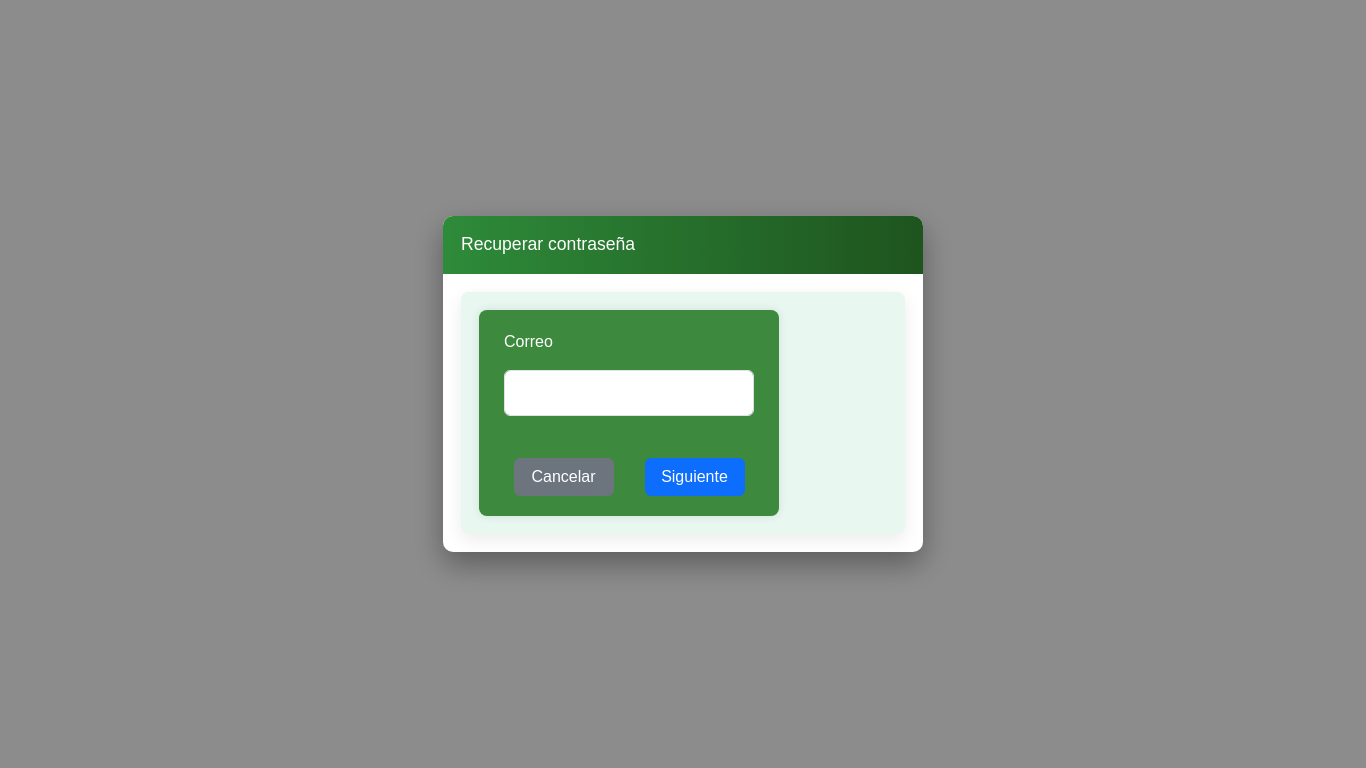
it: RecoverPasswordModal › envía las respuestas y reinicia el formulario tras un restablecimiento exitoso
The width and height of the screenshot is (1366, 768).
In the field labelled "Correo": (629, 393) [504,370,754,416], type "user@condor.cl"
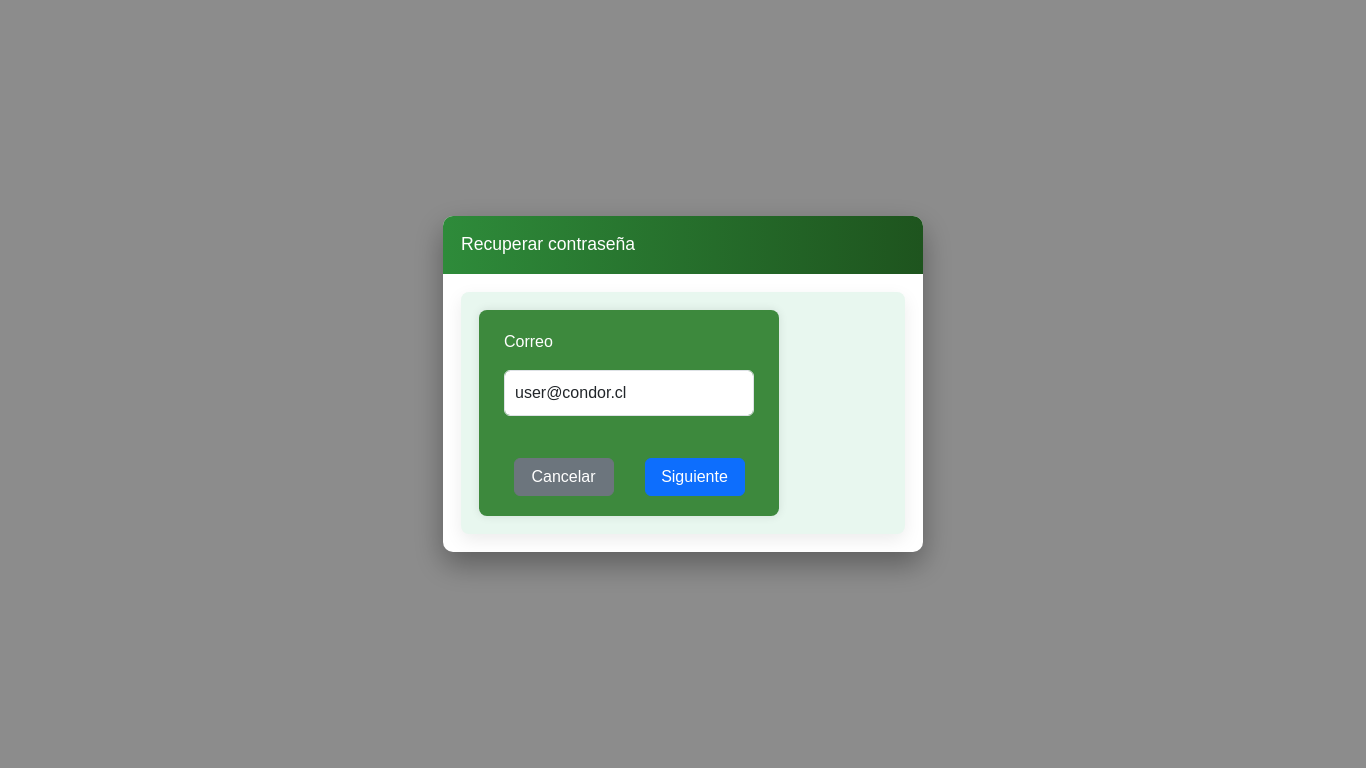
Click the button "Siguiente": (694, 477) [644,458,744,496]
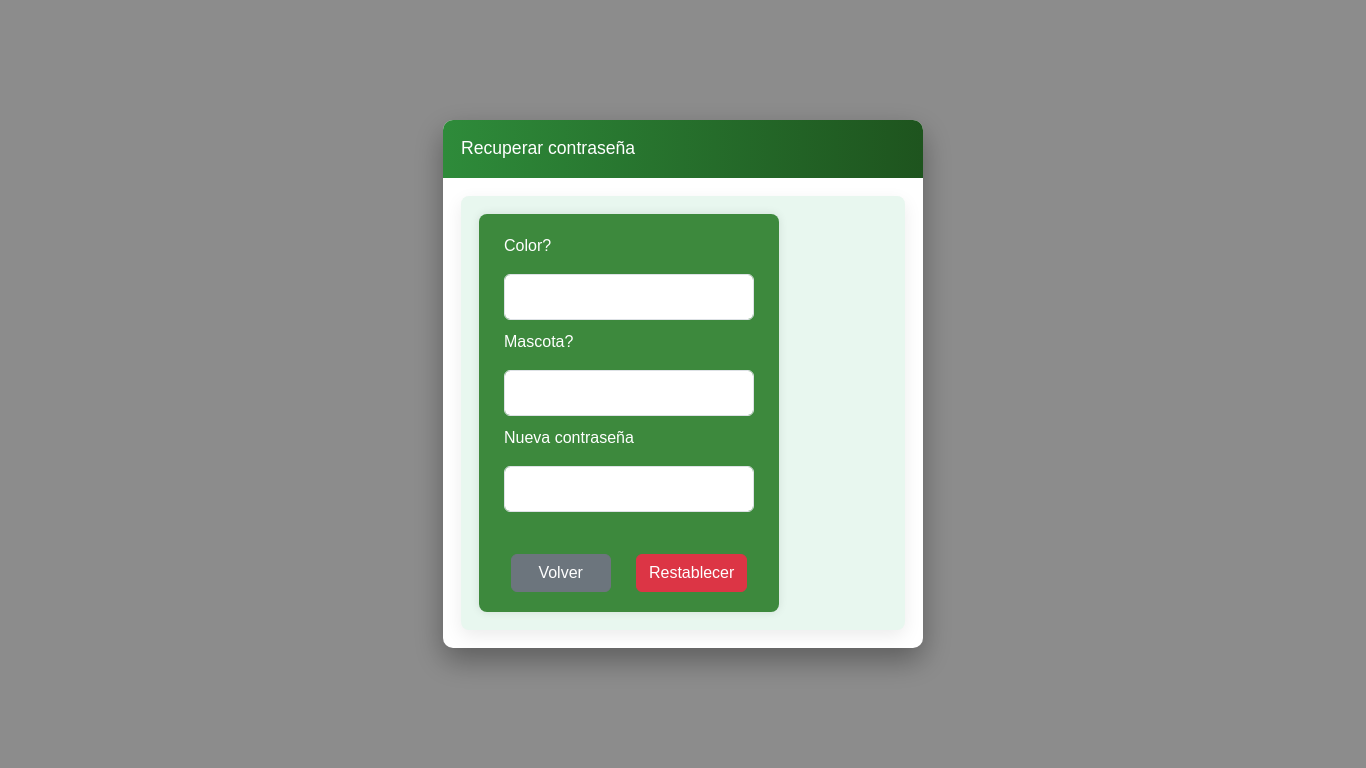
Check: the text "Color?" is shown, box [504,237,551,254]
In the field labelled "Color?": (629, 297) [504,274,754,320], type "Azul"
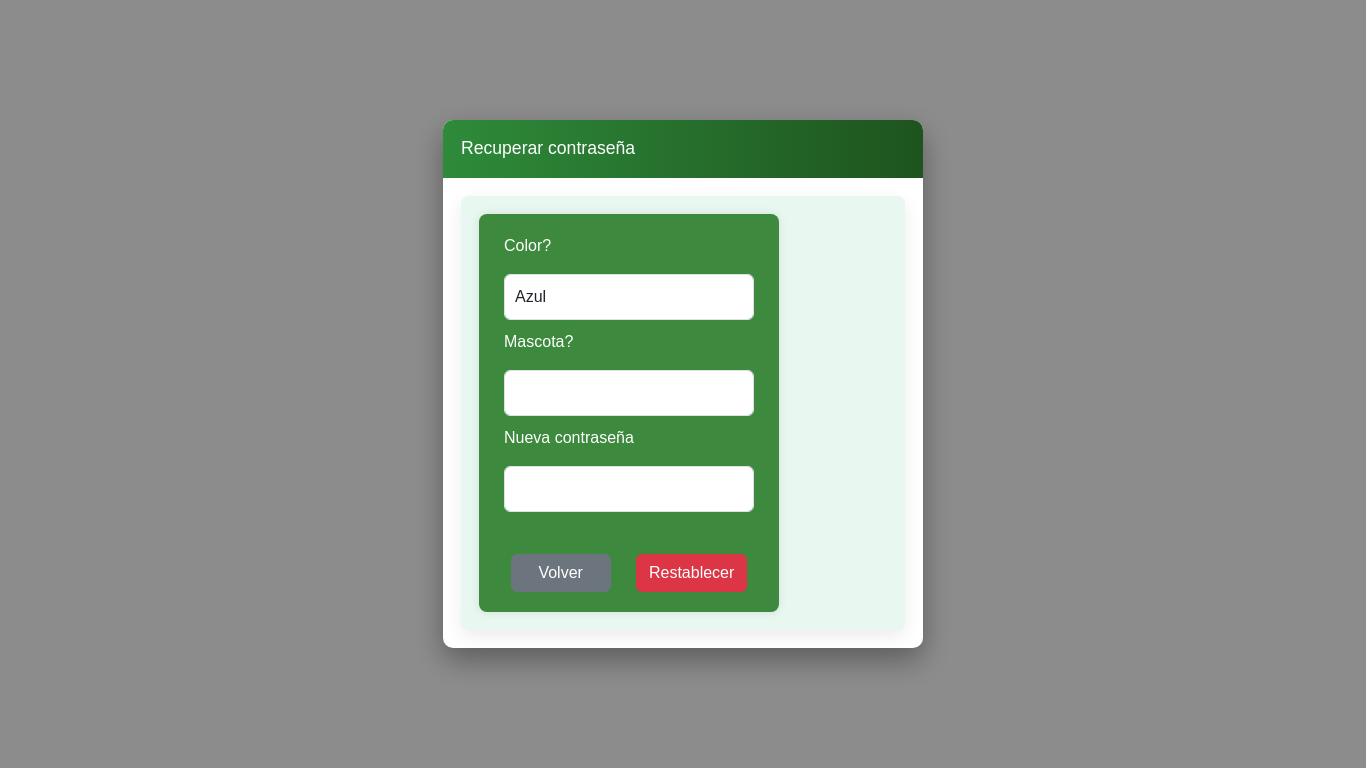
In the field labelled "Mascota?": (629, 393) [504,370,754,416], type "Firulais"
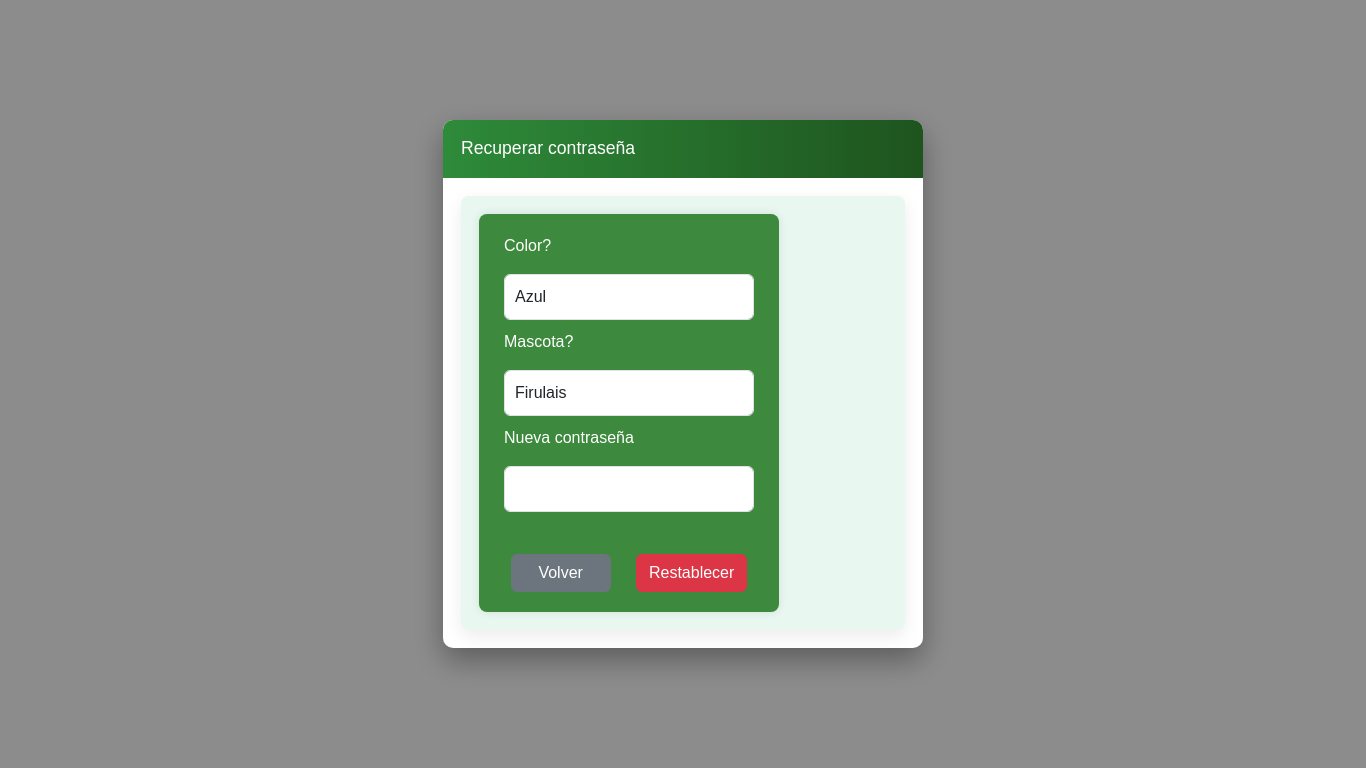
In the password field labelled "Nueva contraseña": (629, 489) [504,466,754,512], type "Secreta1"
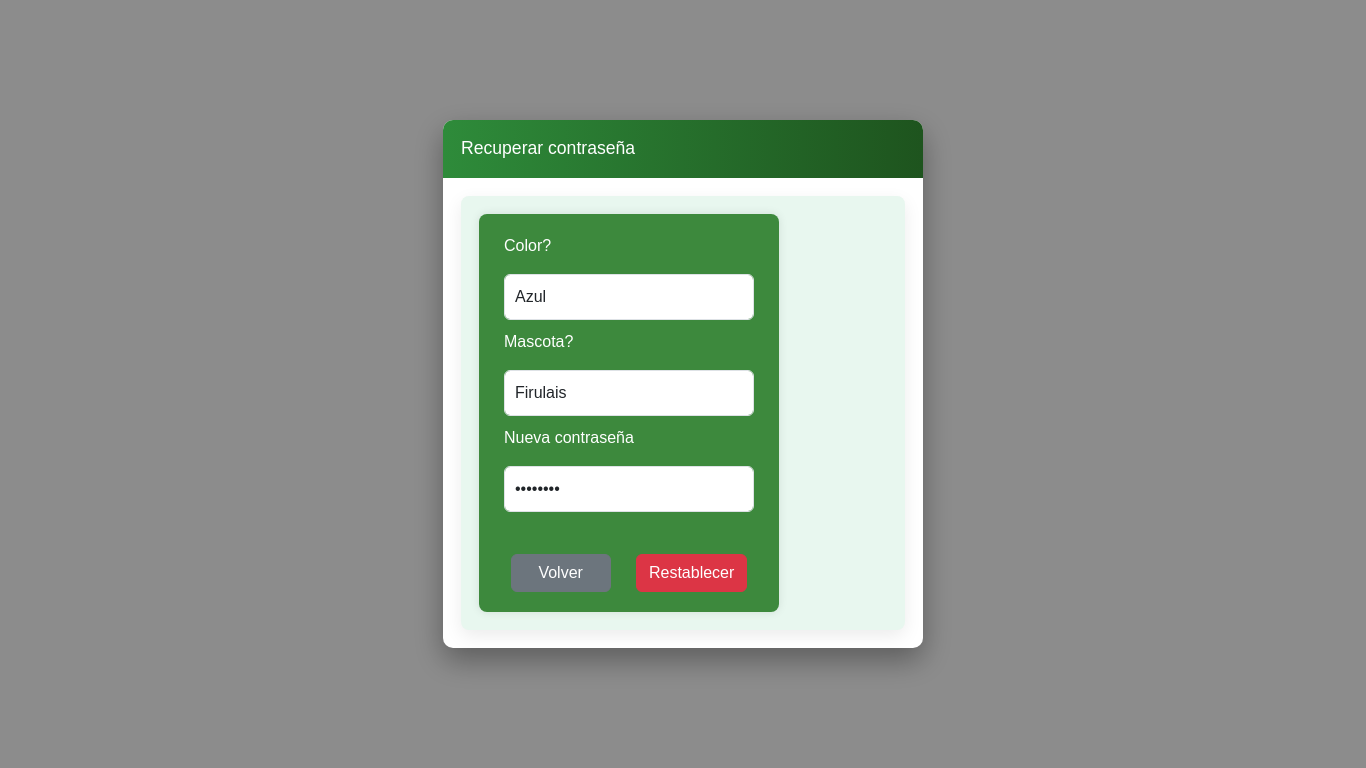
Click the button "Restablecer": (692, 573) [636,554,747,592]
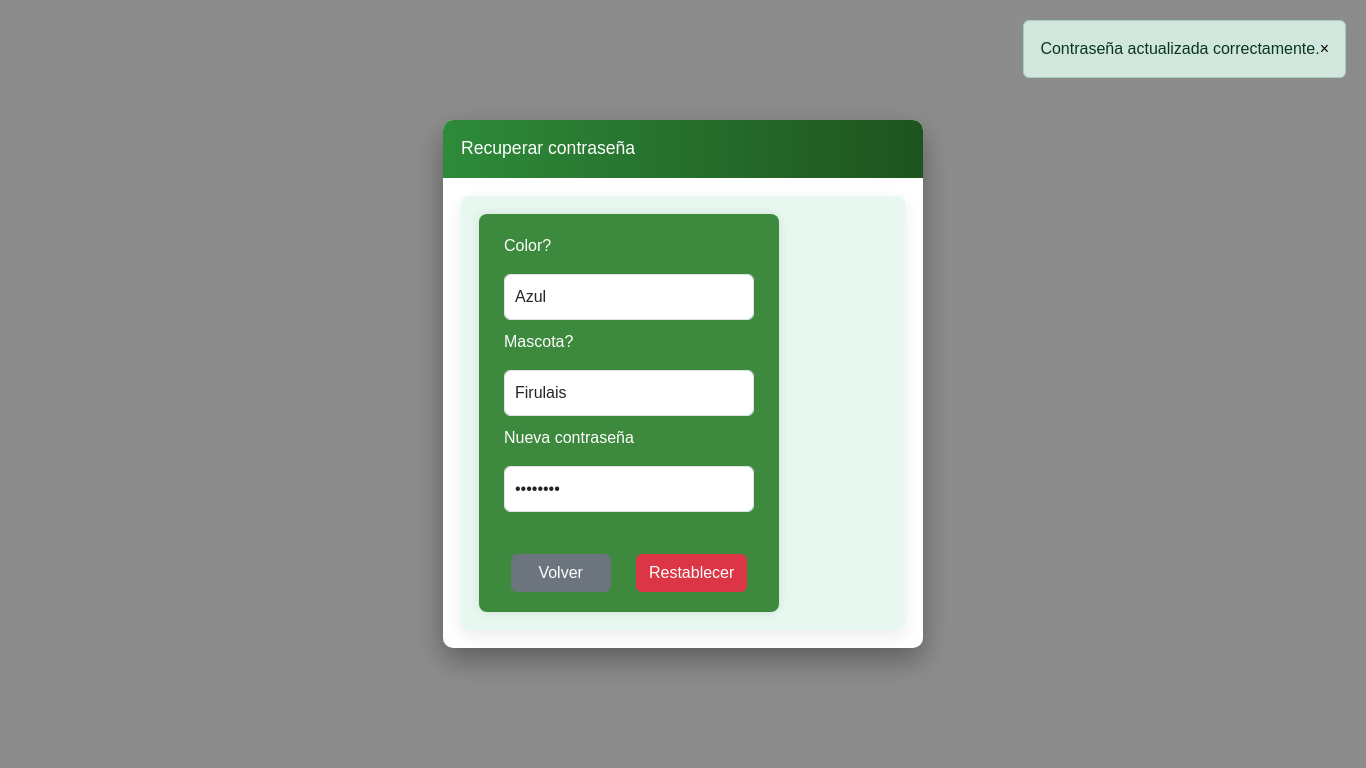
Check: the text "Contraseña actualizada correctamente. ×" is shown, box [1023,20,1346,78]
